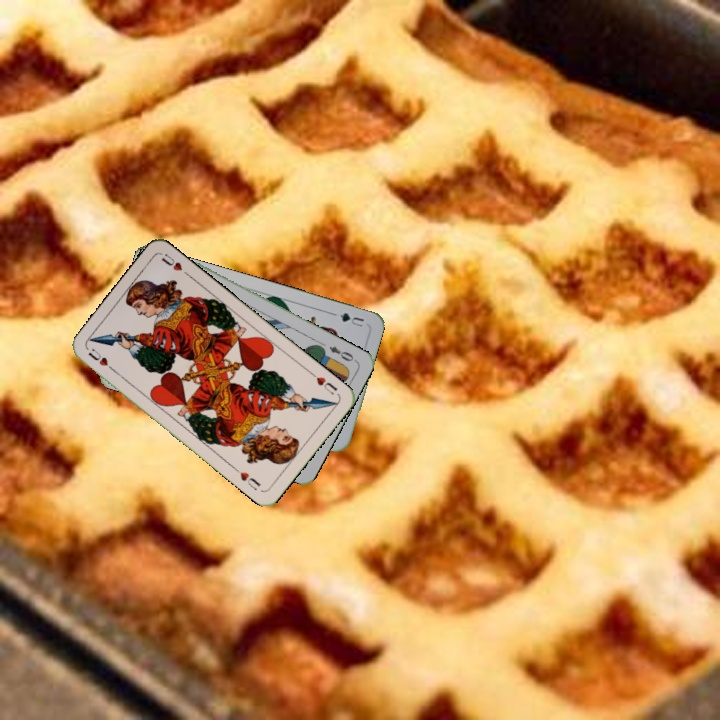EO: (325, 342, 359, 364)
GU: (329, 309, 366, 330)
HU: (84, 345, 118, 375), (306, 368, 340, 397)
